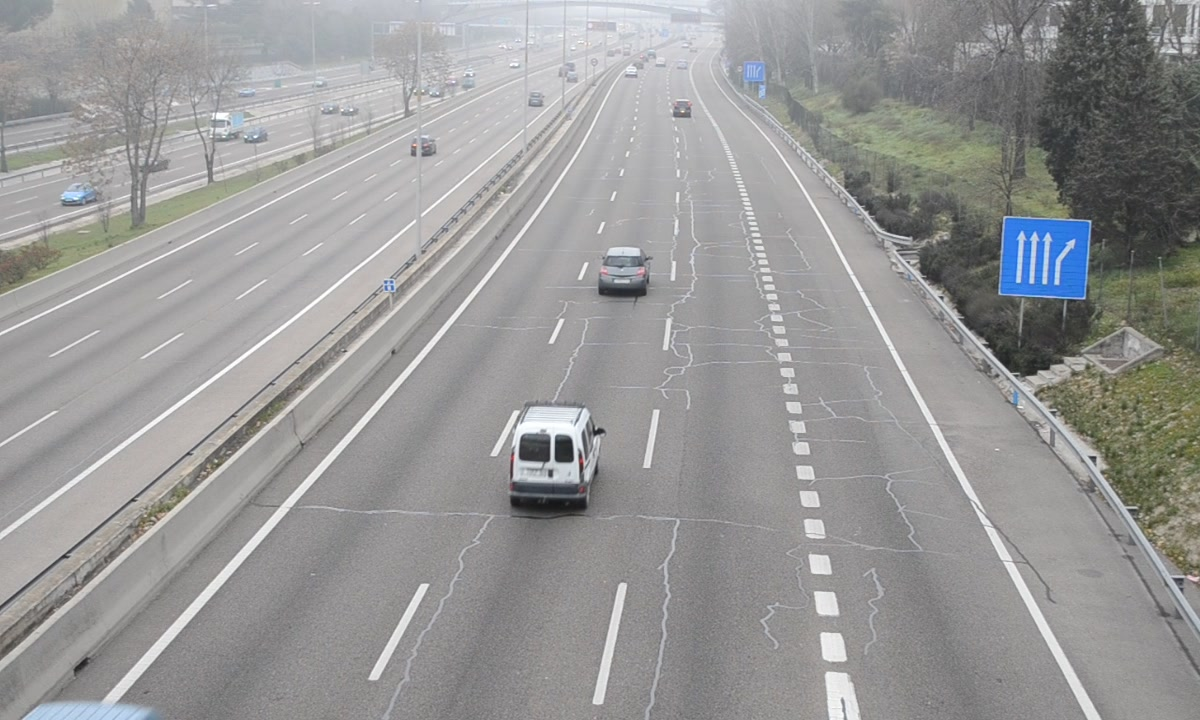car: (598, 246, 650, 290)
van: (507, 406, 599, 511)
